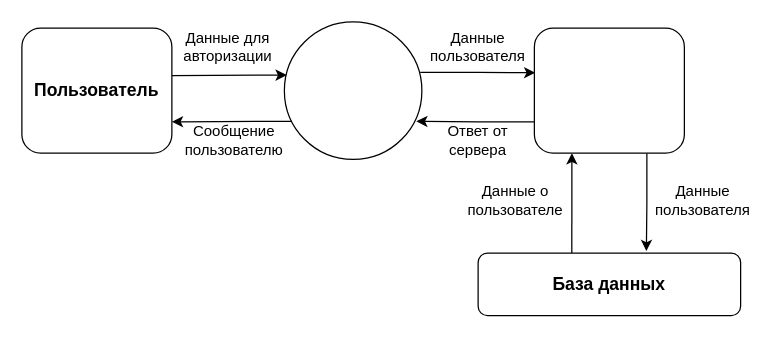
Some shapes in this 781 by 338 pixel diagram are drawn without their labels. The centre of each missing label's shape, as x and y in pixels:
Авторизация: the point at 352,90
Сервер: the point at 608,90
